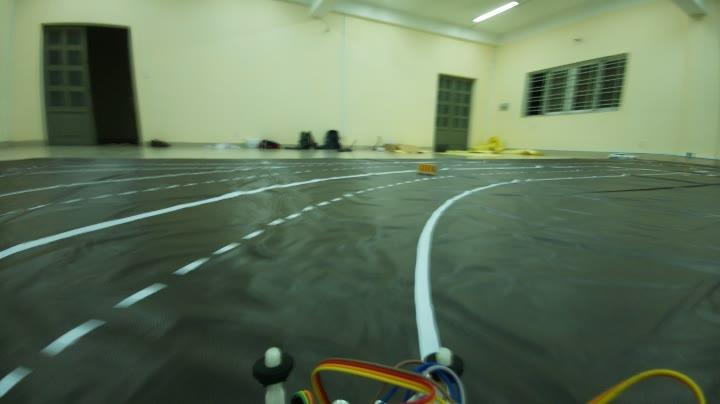roadblock: (411, 158, 438, 176)
